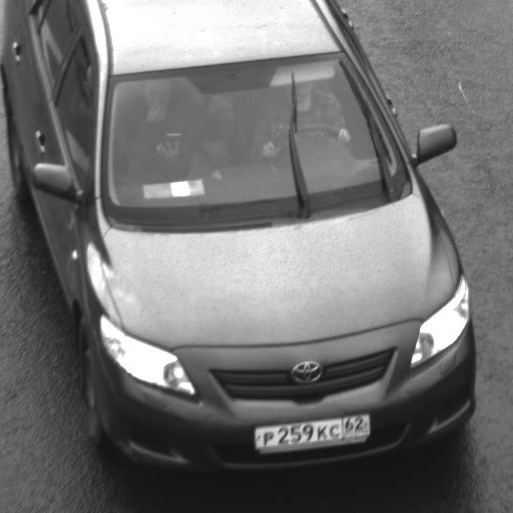plate: (244, 402, 379, 457)
